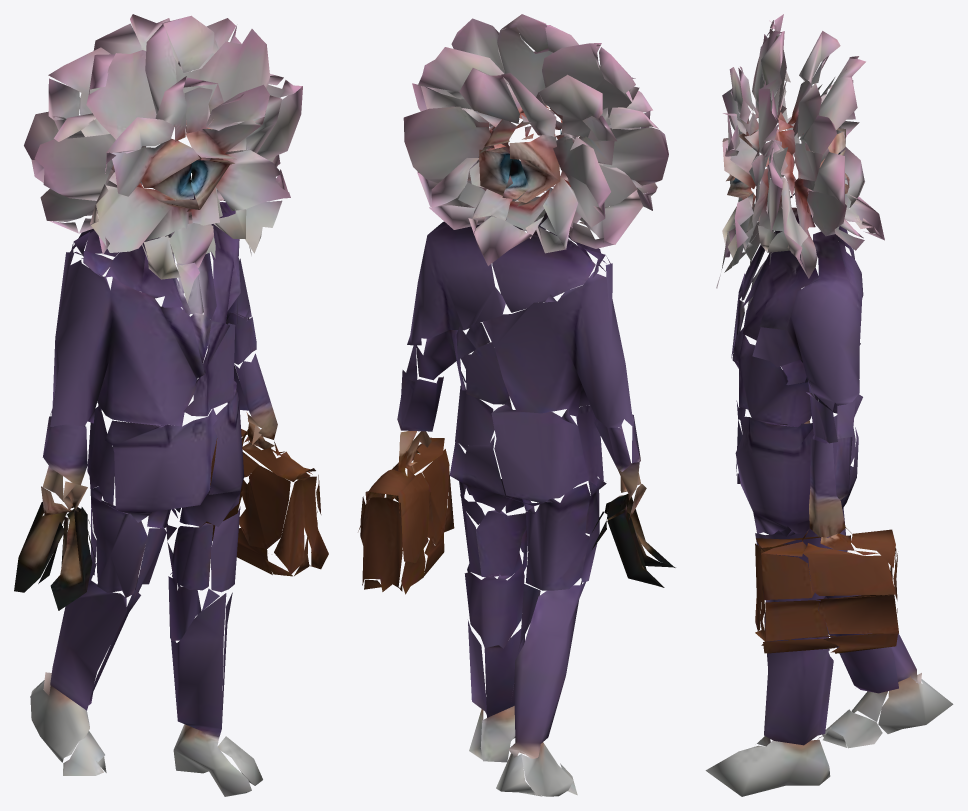
Rendered from crowd_workgirl_full.glb.
3 renders of one model, left to right at view 1: azimuth 30°, elevation 25°; view 2: azimuth 150°, elevation 25°; view 3: azimuth 270°, elevation 25°, orthographic. The views are drawn at different scales.
Parts seen in each view (by area): view 1: tripo_node_4dcd1692-ba07-4971-a005-472ad7834de4; view 2: tripo_node_4dcd1692-ba07-4971-a005-472ad7834de4; view 3: tripo_node_4dcd1692-ba07-4971-a005-472ad7834de4.
Boxes of the visible parts, x1,y1,x2,y2 form: tripo_node_4dcd1692-ba07-4971-a005-472ad7834de4: (14,14,328,796); tripo_node_4dcd1692-ba07-4971-a005-472ad7834de4: (358,14,675,796); tripo_node_4dcd1692-ba07-4971-a005-472ad7834de4: (705,14,953,796).
Size of the model in its own units: 0.3949 by 0.9935 by 0.3041.
1 material, 1 textured.
